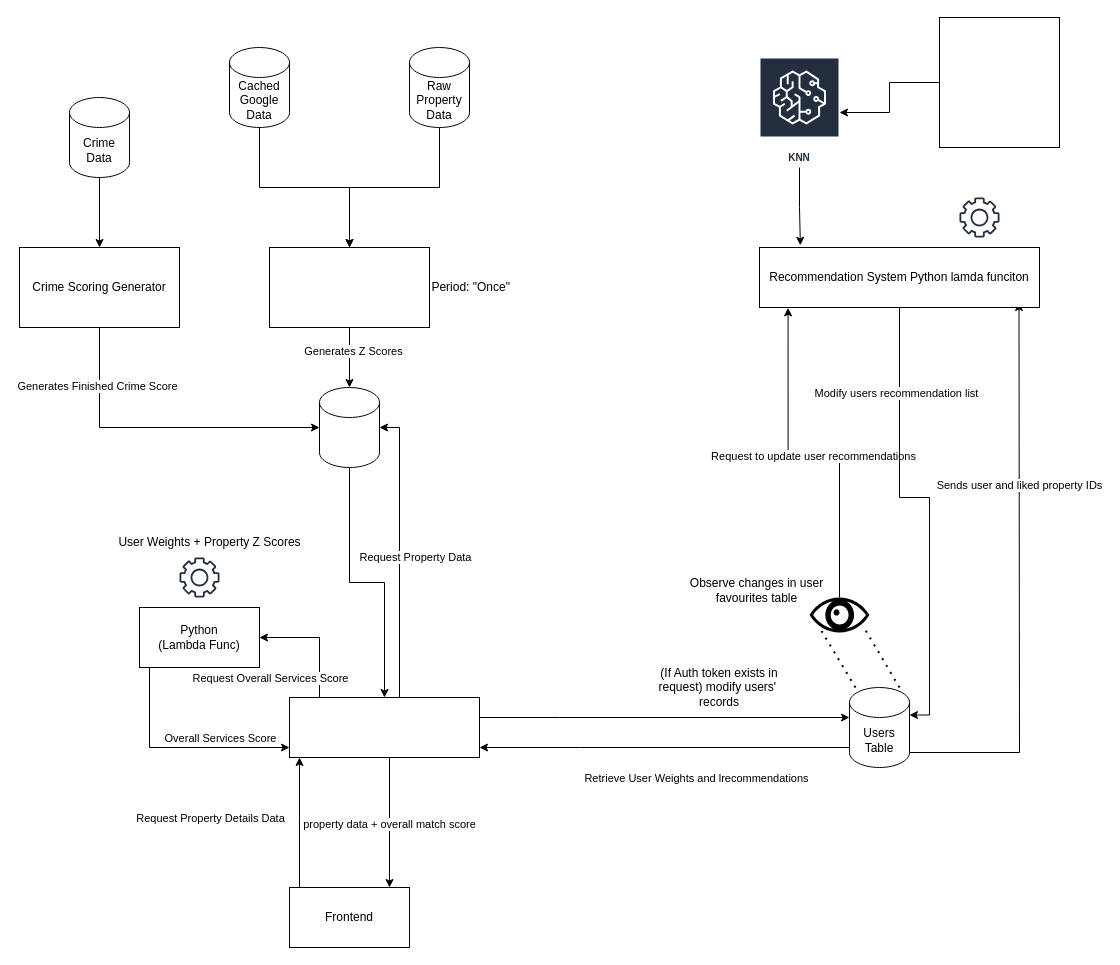
Image size: 1120x965. Some labels were removed from this diagram. The shapes that lost their labels are listed below. From the top down, each one's centre as x and y in pixels, then its label:
[999,82]: Features: -property attributes (price, beds, area) -area z scores
[349,287]: Raw Scoring Generator
[349,427]: Property + Score Data
[384,727]: Backend
